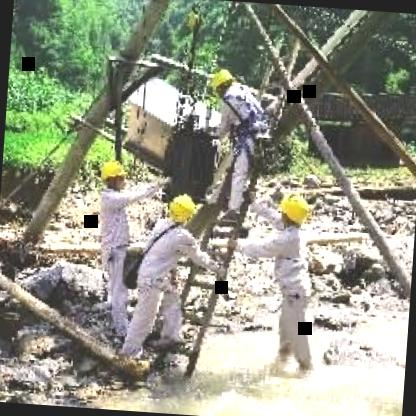helmet: (276, 192, 313, 230), (98, 158, 132, 197), (167, 191, 199, 226), (208, 66, 238, 98)
